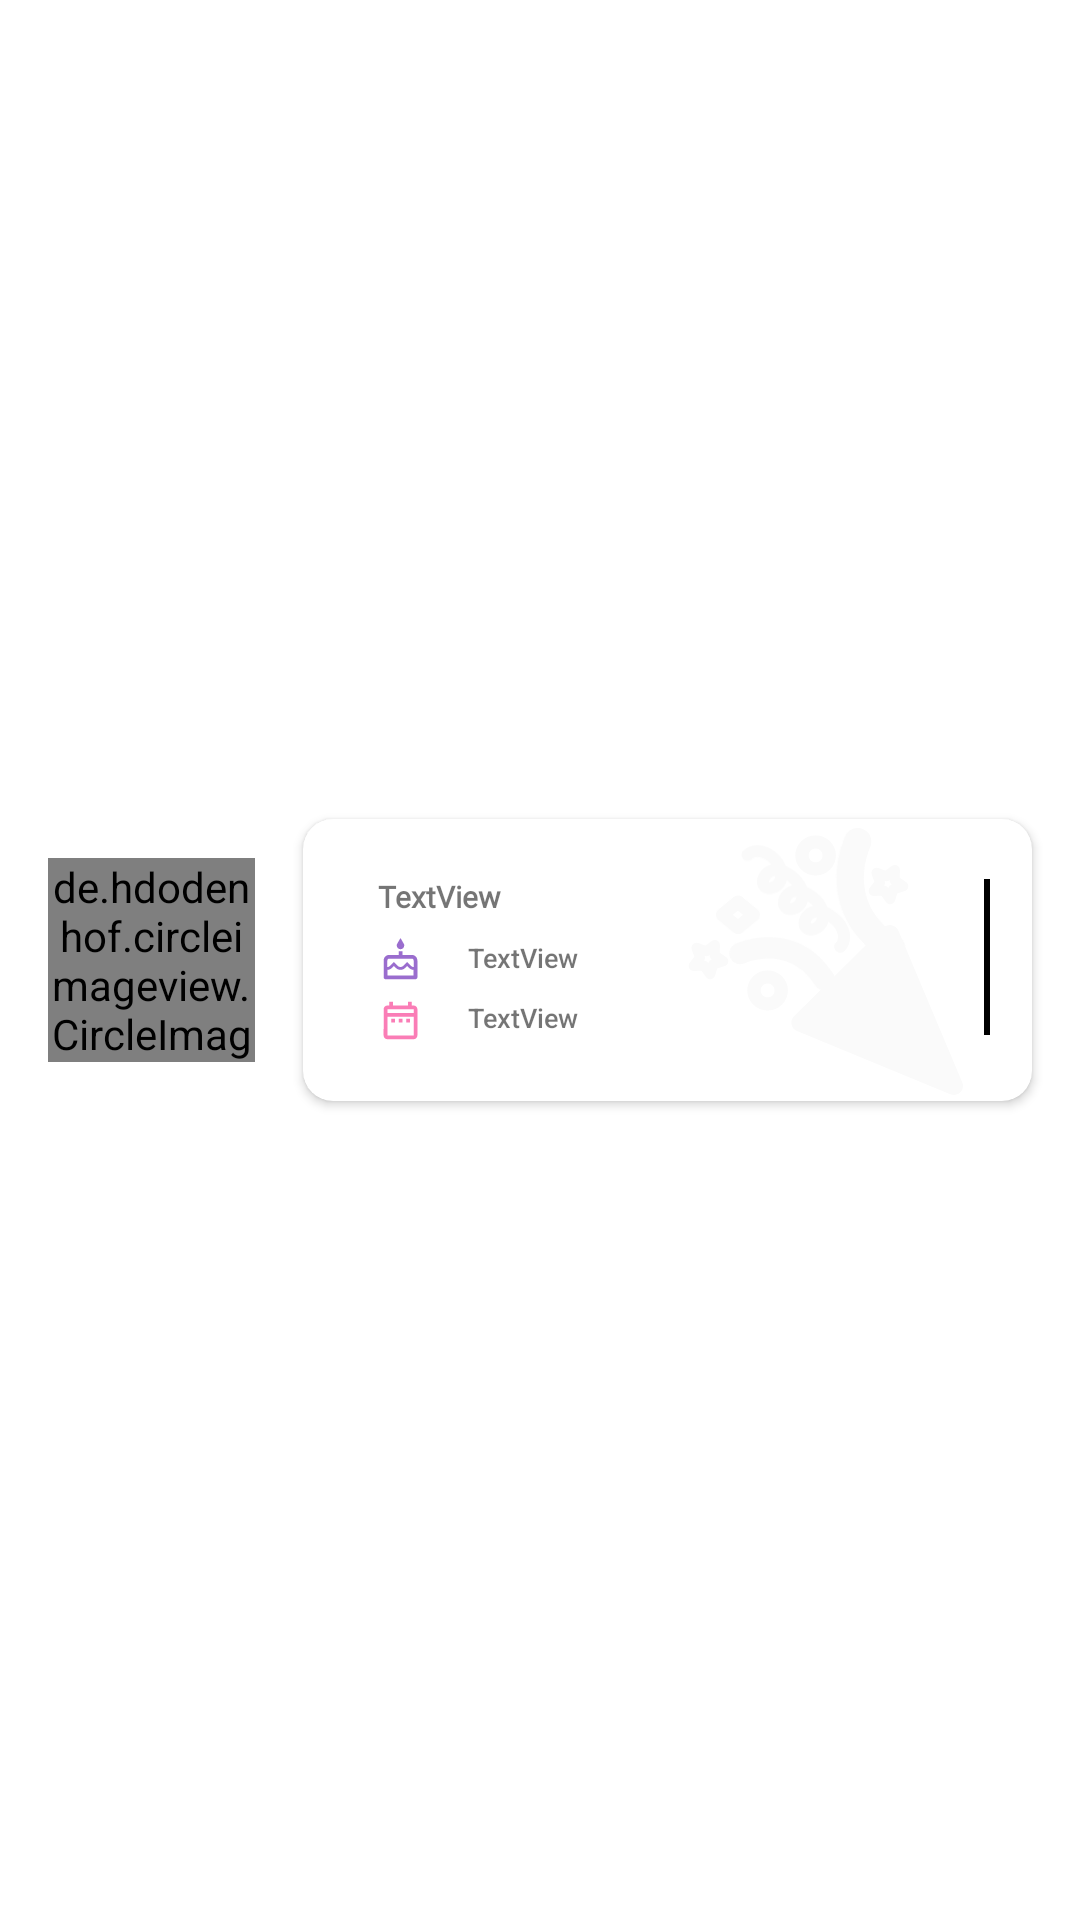

Screen size 1080w x 1920h. Icon name, then its box in pixels as (x1=x1, y1=y1, x2=x2, y2=y2):
cake: (x1=383, y1=938, x2=418, y2=980)
date: (x1=383, y1=1001, x2=418, y2=1040)
